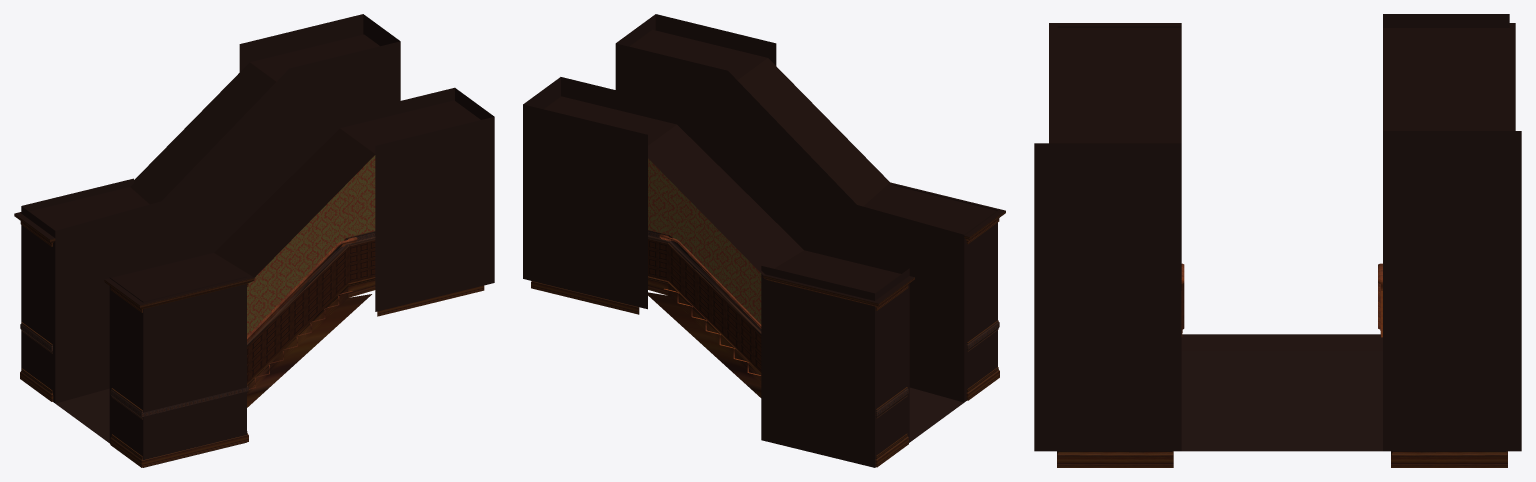
Rendered from Staircase_Smaller.fbx.
3 renders of one model, left to right at view 1: azimuth 30°, elevation 25°; view 2: azimuth 150°, elevation 25°; view 3: azimuth 270°, elevation 25°, orthographic. The views are drawn at different scales.
Parts seen in each view (by area): view 1: StaircaseStraightsmallerColMesh, StaircaseStraightSmaller; view 2: StaircaseStraightsmallerColMesh, StaircaseStraightSmaller; view 3: StaircaseStraightsmallerColMesh, StaircaseStraightSmaller.
Part boxes in pixels (x1,y1,x2,y2): StaircaseStraightsmallerColMesh: (21,14,494,467); StaircaseStraightSmaller: (14,34,484,467); StaircaseStraightsmallerColMesh: (523,14,997,467); StaircaseStraightSmaller: (531,29,1005,467); StaircaseStraightsmallerColMesh: (1034,14,1521,451); StaircaseStraightSmaller: (1049,23,1515,467).
Size of the model in its own units: 627 by 475 by 407.
